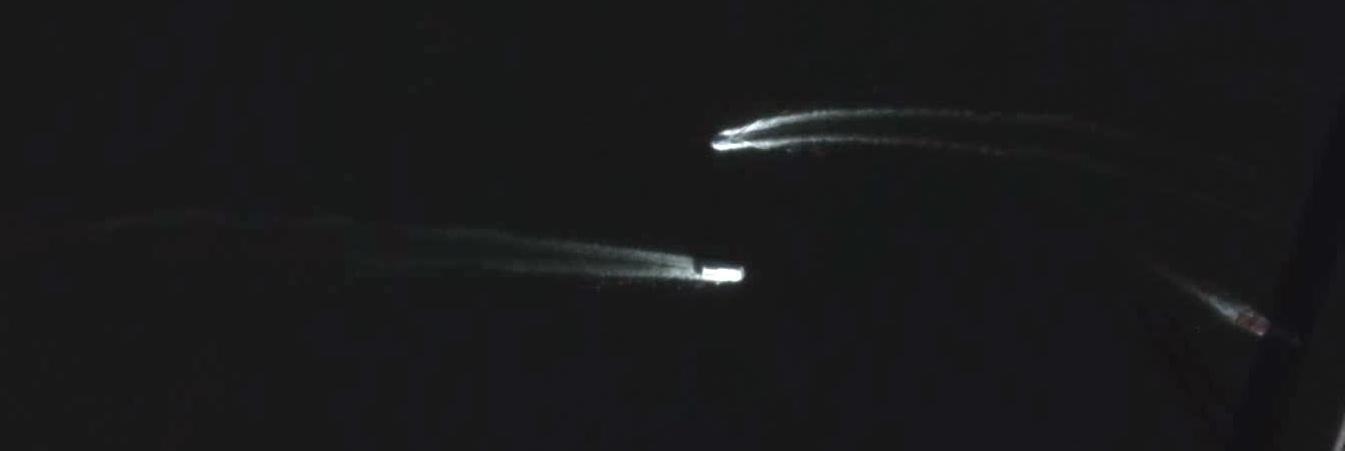person: (1235, 310, 1272, 339), (702, 267, 744, 284), (711, 134, 731, 144)
